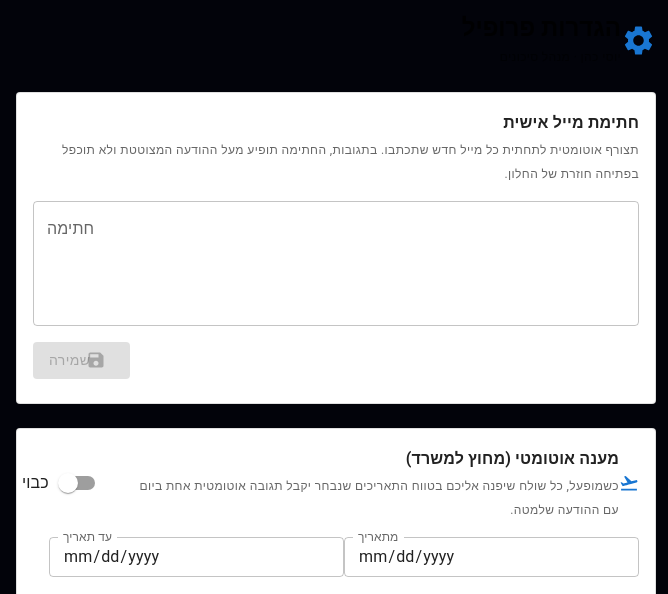
it: ProfileSettings — signature editor › shows an error message and keeps the edited text if saving fails
Type "חתימה חדשה" into the text box with test id "signature-textfield" at (336, 264), box [47,218,625,310]
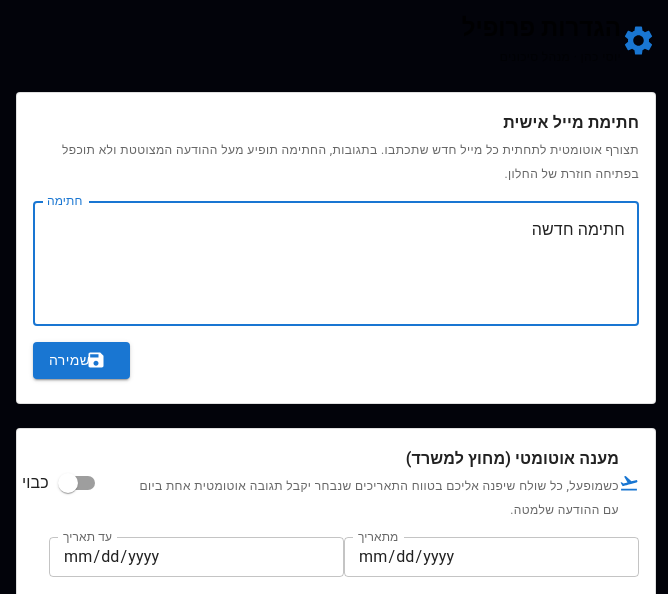
Click the button with test id "save-signature-button" at (82, 360), box [33,342,130,378]
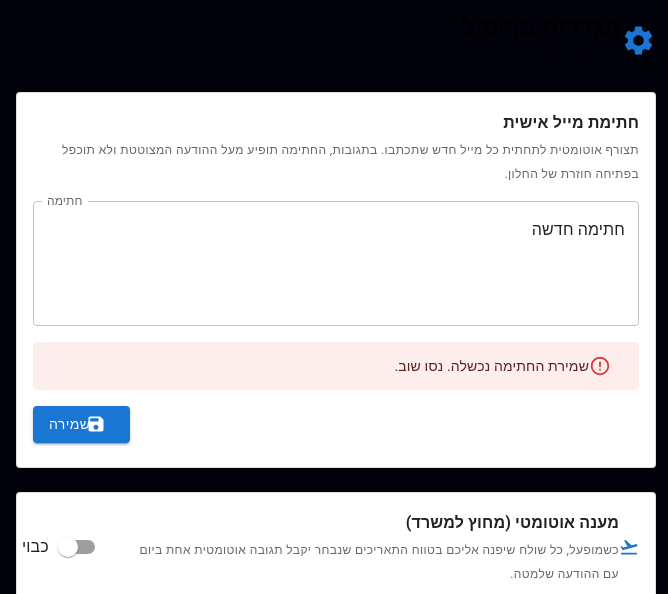
Now the text "שמירת החתימה נכשלה. נסו שוב." is shown, box [394,358,589,374]
